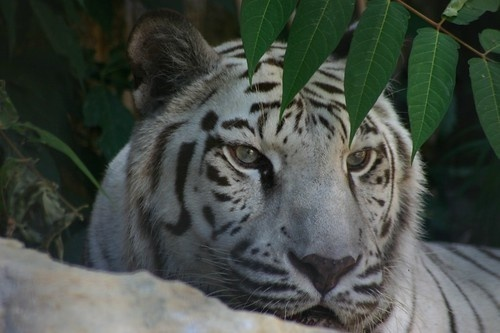tigre: (92, 19, 480, 329)
